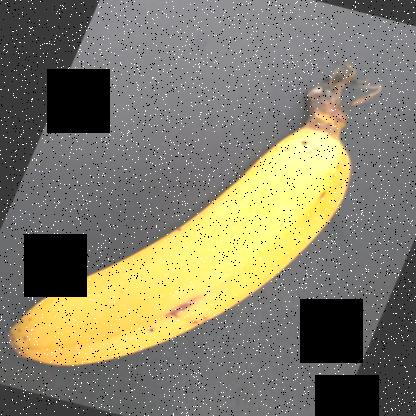freshripe: (0, 121, 346, 373)
